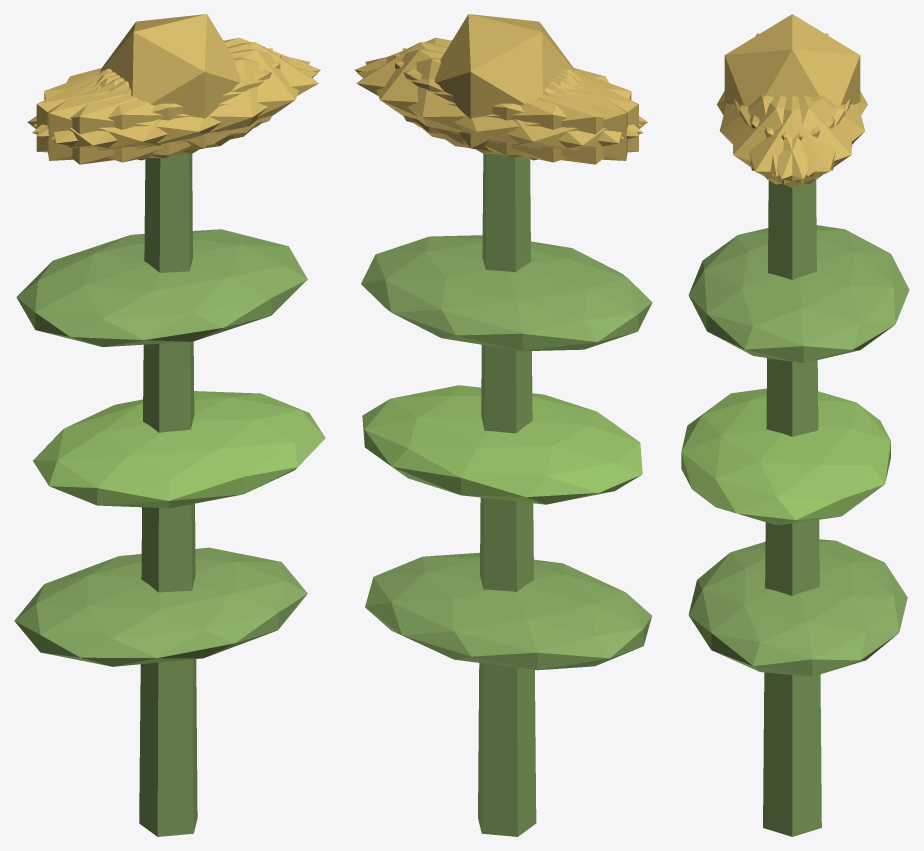
The model's file is ceiba-pentandra.glb.
The picture shows the model from 3 angles, left to right: view 1: azimuth 30°, elevation 25°; view 2: azimuth 150°, elevation 25°; view 3: azimuth 270°, elevation 25°; orthographic projection.
Parts seen in each view (by area): view 1: stem, leaf2, leaf1, leaf0, center, petal1, petal6, petal2, petal5, petal7, petal0, petal4 (+2 smaller); view 2: stem, leaf2, leaf0, leaf1, center, petal8, petal3, petal7, petal4, petal2, petal0, petal5 (+2 smaller); view 3: stem, leaf2, leaf1, leaf0, center, petal0, petal4, petal5, petal1, petal8.
Boxes of the visible parts, bbox=[...] form: stem: bbox=[139, 153, 197, 836]; leaf2: bbox=[16, 229, 307, 346]; leaf1: bbox=[33, 391, 325, 508]; leaf0: bbox=[14, 547, 307, 666]; center: bbox=[99, 14, 240, 150]; petal1: bbox=[32, 57, 317, 162]; petal6: bbox=[27, 70, 234, 164]; petal2: bbox=[47, 48, 272, 160]; petal5: bbox=[51, 49, 309, 155]; petal7: bbox=[36, 54, 281, 158]; petal0: bbox=[99, 42, 318, 145]; petal4: bbox=[33, 37, 320, 136]; stem: bbox=[478, 153, 536, 836]; leaf2: bbox=[361, 235, 652, 351]; leaf0: bbox=[365, 552, 651, 670]; leaf1: bbox=[362, 385, 642, 504]; center: bbox=[434, 14, 575, 150]; petal8: bbox=[357, 57, 643, 162]; petal3: bbox=[440, 70, 647, 164]; petal7: bbox=[402, 48, 627, 160]; petal4: bbox=[365, 49, 623, 155]; petal2: bbox=[394, 54, 638, 158]; petal0: bbox=[356, 42, 575, 145]; petal5: bbox=[355, 37, 641, 136]; stem: bbox=[763, 180, 821, 836]; leaf2: bbox=[688, 225, 909, 363]; leaf1: bbox=[681, 388, 890, 525]; leaf0: bbox=[688, 539, 907, 676]; center: bbox=[724, 14, 860, 106]; petal0: bbox=[734, 95, 850, 187]; petal4: bbox=[739, 95, 852, 184]; petal5: bbox=[732, 95, 845, 184]; petal1: bbox=[719, 95, 835, 176]; petal8: bbox=[749, 95, 864, 176].
Bounding box in the file's own units: 0.1452 × 0.3951 × 0.1031.
